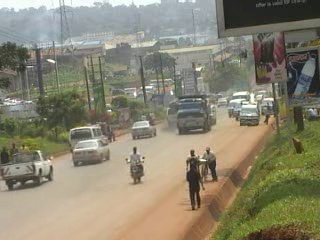Car: (69, 136, 113, 168), (129, 119, 160, 140), (215, 97, 228, 108)
Motorcycle: (124, 147, 147, 184)
